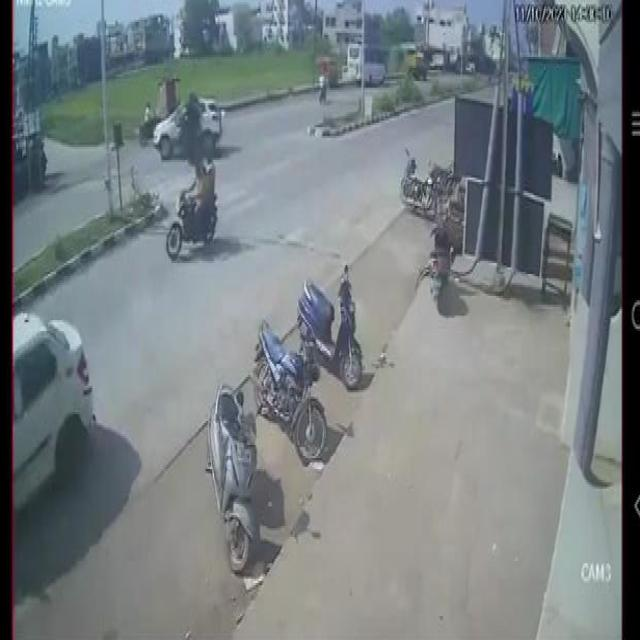accident: (149, 66, 232, 174)
